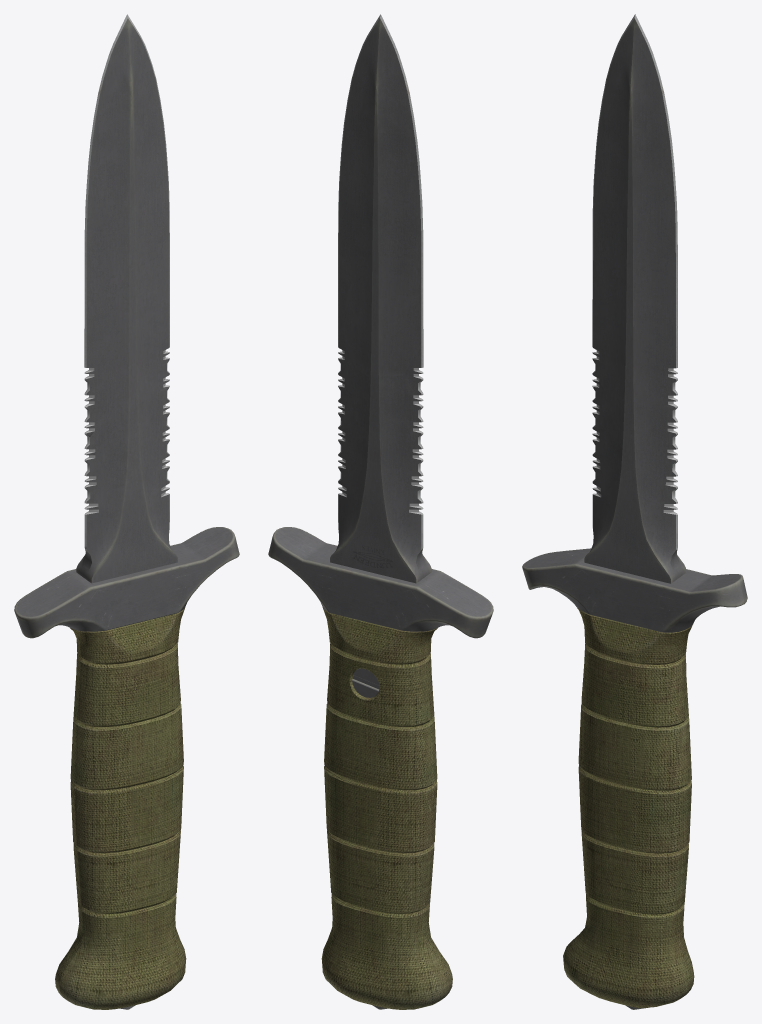
3 views of the same model, side by side, from view 1: azimuth 30°, elevation 25°; view 2: azimuth 150°, elevation 25°; view 3: azimuth 330°, elevation 25° (orthographic).
Visible parts, largest first — view 1: weapons/models/knife/knife_default_ct/weapon_knife_default_; view 2: weapons/models/knife/knife_default_ct/weapon_knife_default_; view 3: weapons/models/knife/knife_default_ct/weapon_knife_default_.
Part boxes in pixels (x1=…): weapons/models/knife/knife_default_ct/weapon_knife_default_: x1=14, y1=14, x2=239, y2=1009; weapons/models/knife/knife_default_ct/weapon_knife_default_: x1=268, y1=14, x2=493, y2=1009; weapons/models/knife/knife_default_ct/weapon_knife_default_: x1=522, y1=14, x2=747, y2=1009.
Size of the model in its own units: 3.5 by 15.18 by 1.09.
Materials: 1 (1 with a texture image).
